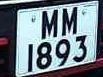1: (25, 40, 36, 74)
3: (71, 36, 90, 63)
8: (34, 39, 54, 70)
9: (53, 37, 72, 68)
M: (39, 9, 62, 40), (60, 5, 80, 39)
